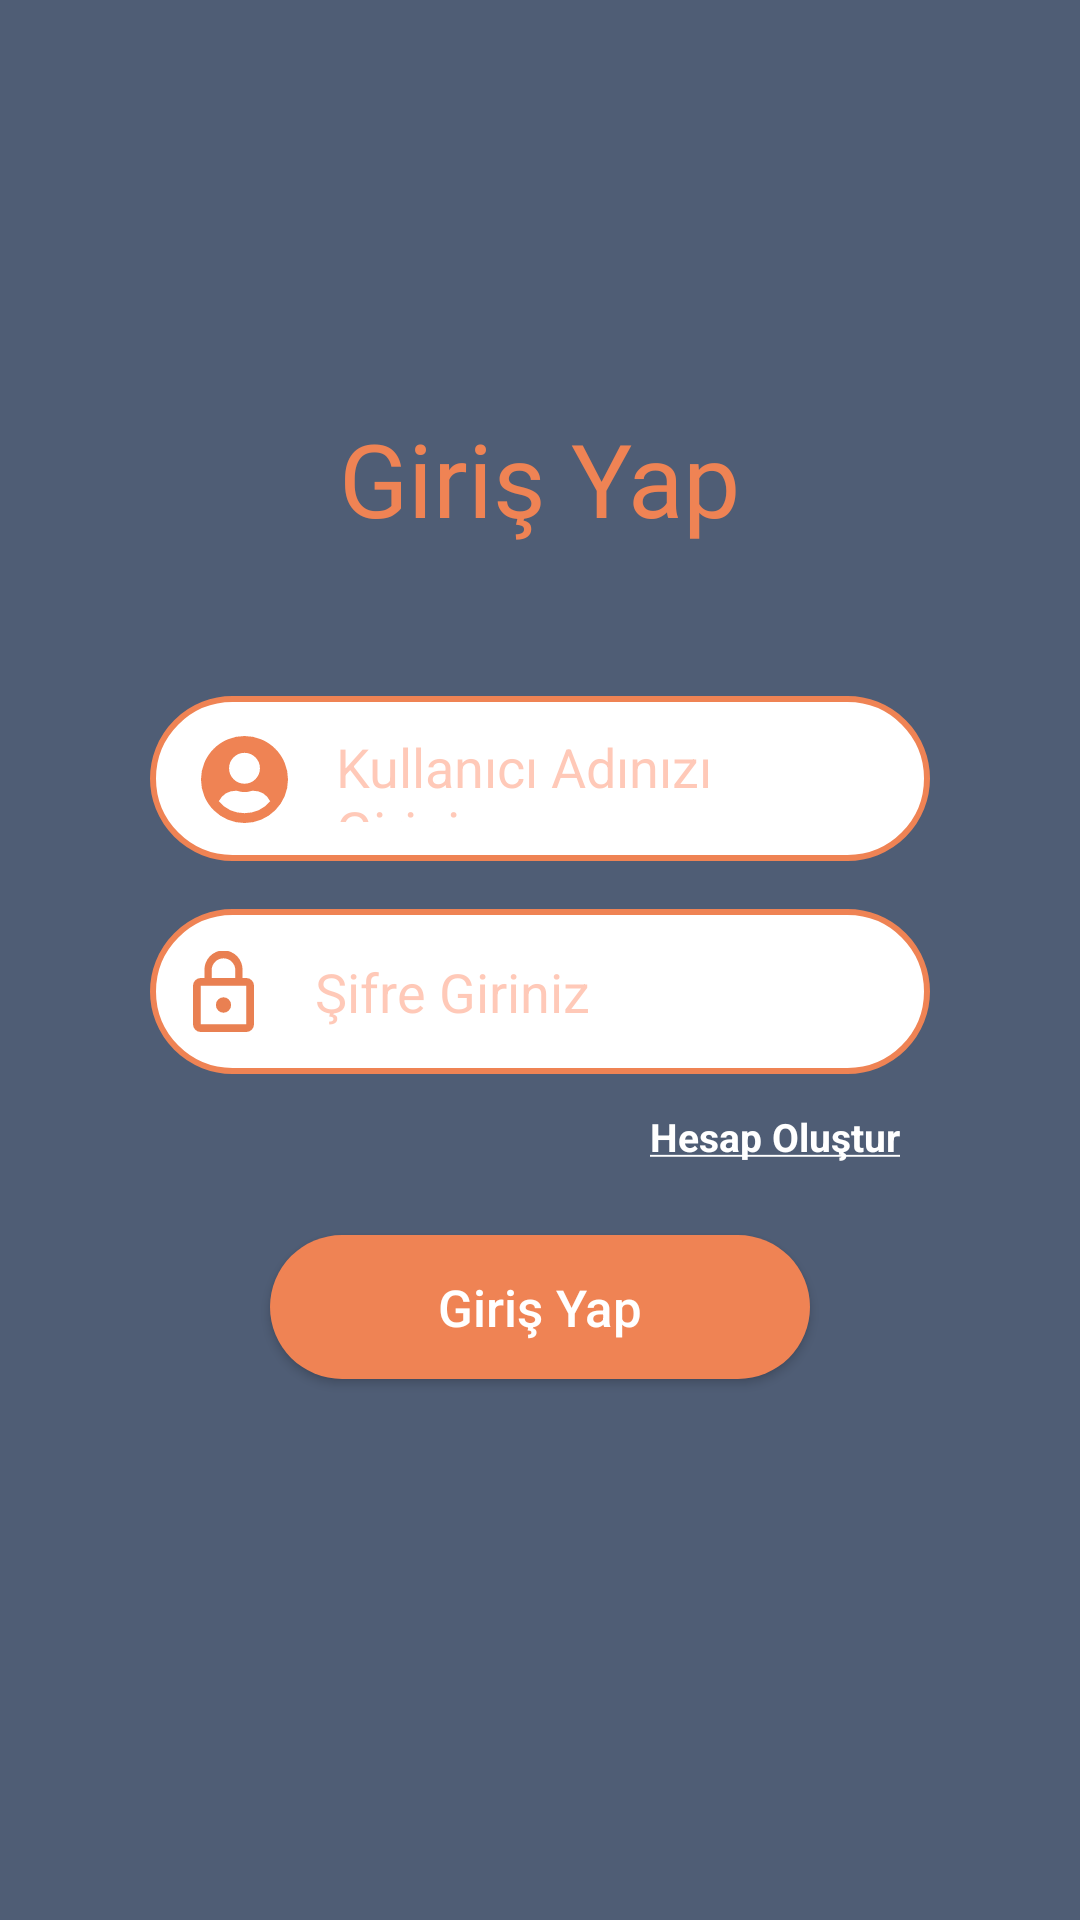

Named icons in this screenshot (1080 x 1920) and their centers, [x,y]:
lock: [223,991]
